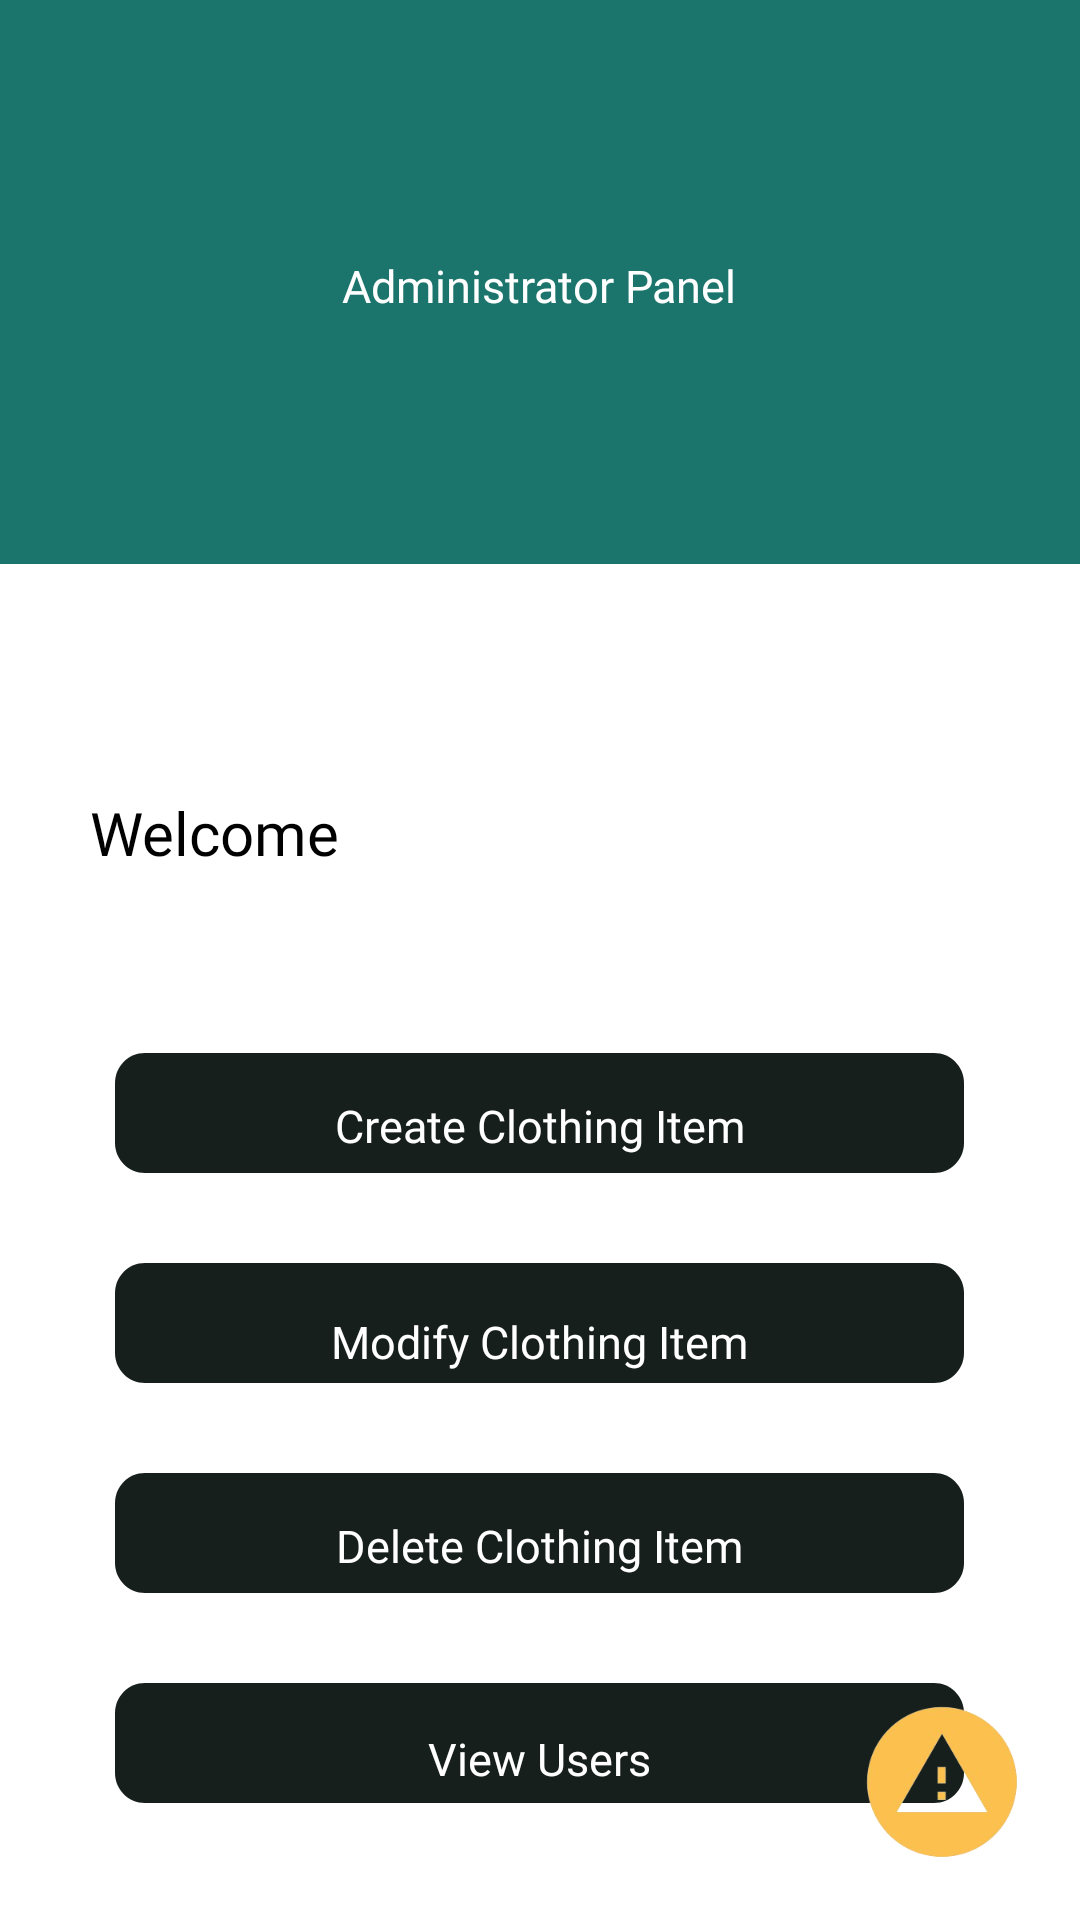

Icons on this 1080px×1920px Android screen, each with its box as (x1, y1, x2, y2):
incidenciasimagen: (852, 1692, 1017, 1857)
